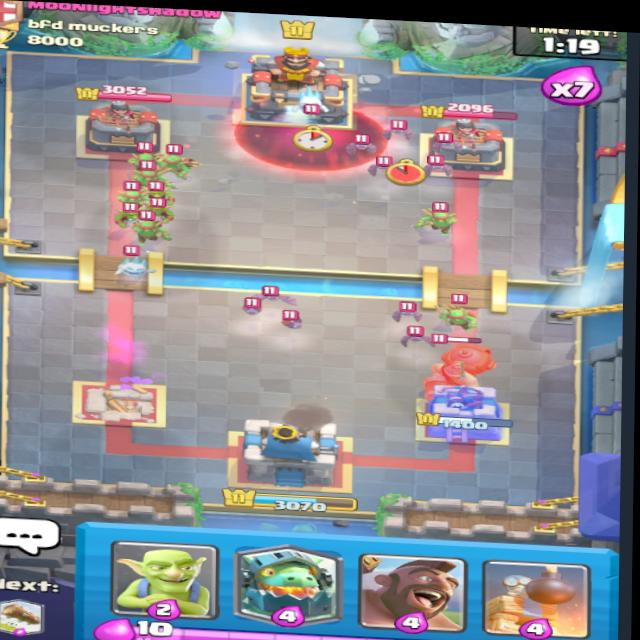bats: (383, 321, 442, 350), (245, 287, 299, 309), (424, 131, 468, 157), (419, 155, 462, 180), (339, 132, 387, 154), (272, 308, 311, 334), (373, 120, 426, 139), (386, 302, 429, 324), (231, 295, 271, 318), (362, 154, 401, 177)
goblin: (113, 199, 146, 230), (143, 197, 180, 224)
ice-spirit: (117, 252, 160, 282)
mighty-miner: (406, 327, 505, 404)
spear-goblin: (437, 291, 488, 333), (116, 141, 163, 177), (135, 162, 171, 192), (426, 206, 464, 234), (140, 212, 174, 243), (158, 144, 192, 174)
void: (240, 101, 392, 173)
